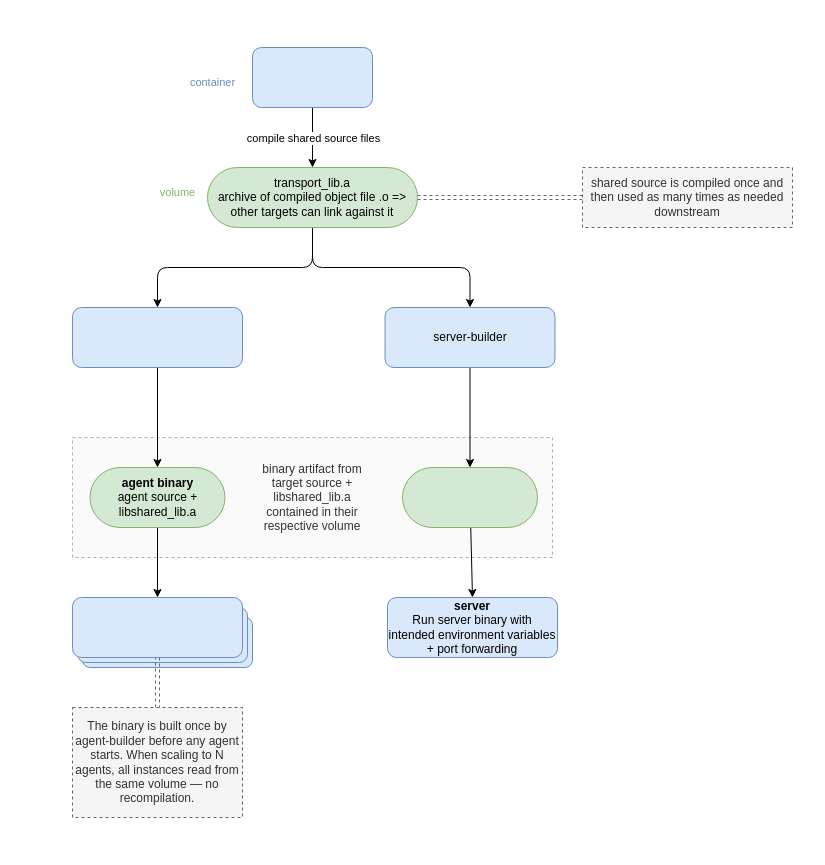
Image size: 825x865. Some labels were removed from this diagram. The shapes that lost their labels are listed below. From the top down, each one's centre as x and y in pixels, then its label:
[312,77]: transport
[157,337]: agent-builder
[470,497]: server binary server source + libshared_lib.a
[157,627]: agent (×N) Run agent binary with intended environment variables
